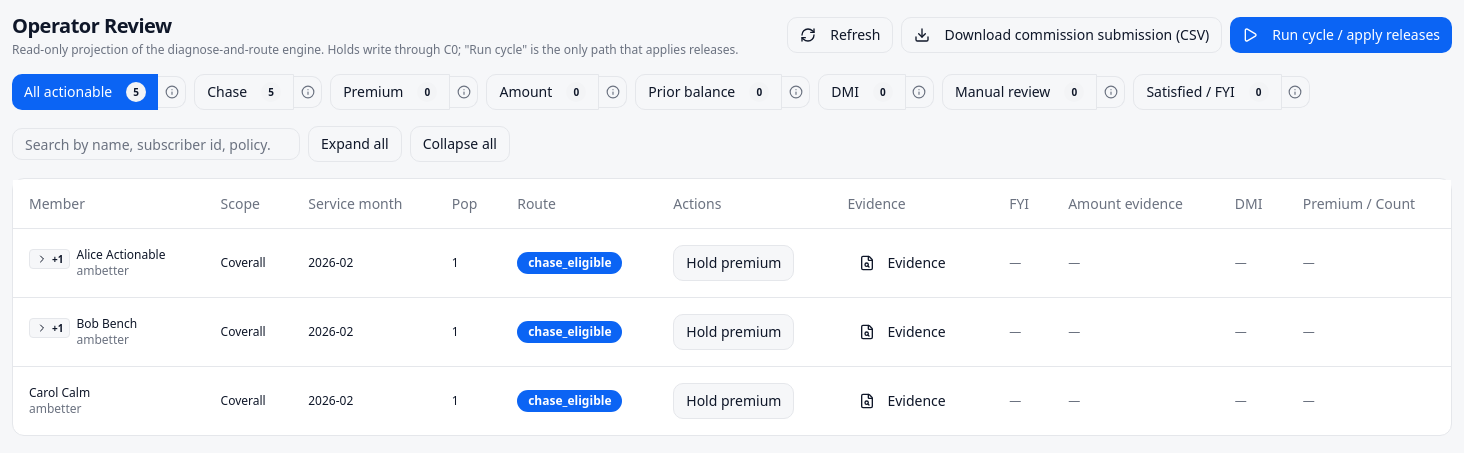
Test: OperatorReviewPage — C2c slice 1 member search + grouping › search by name narrows rows + auto-expands matching groups; clearing restores manual expand state and writes nothing
The image size is (1464, 453).
Check: the number of rows with test id "op-row" is 3, box [13,228,1451,297]; [13,297,1451,366]; [13,366,1451,434]
In the field with test id "member-search": (156,144) [12,128,300,160], type "alice"
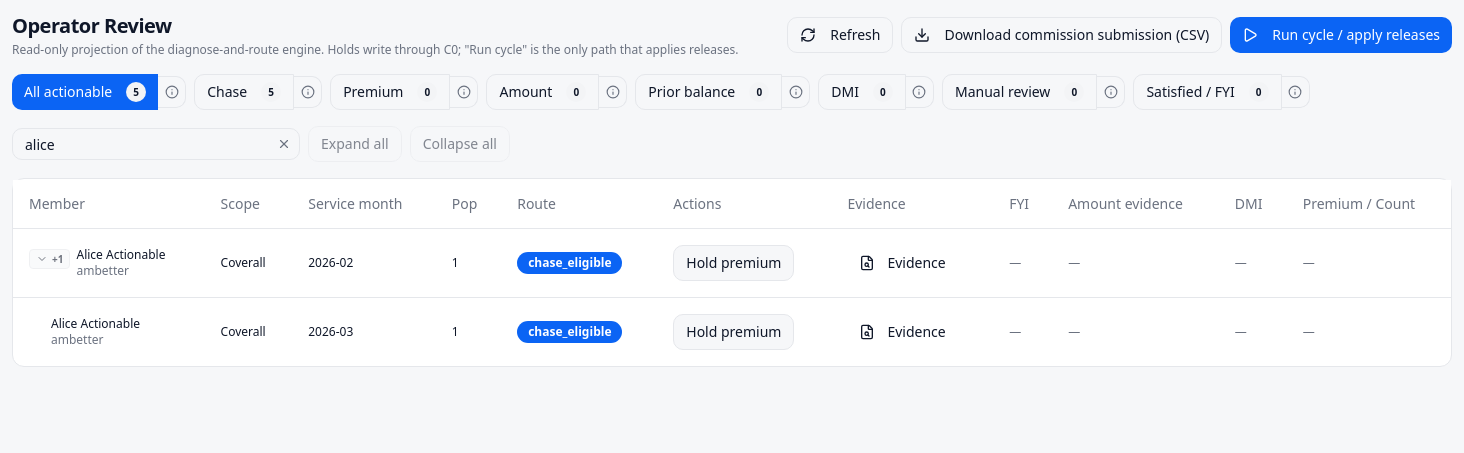
# Manual expand state was NOT mutated by typing: clearing returns to collapsed.
Click the button with test id "member-search-clear": (284,144) [274,134,294,154]
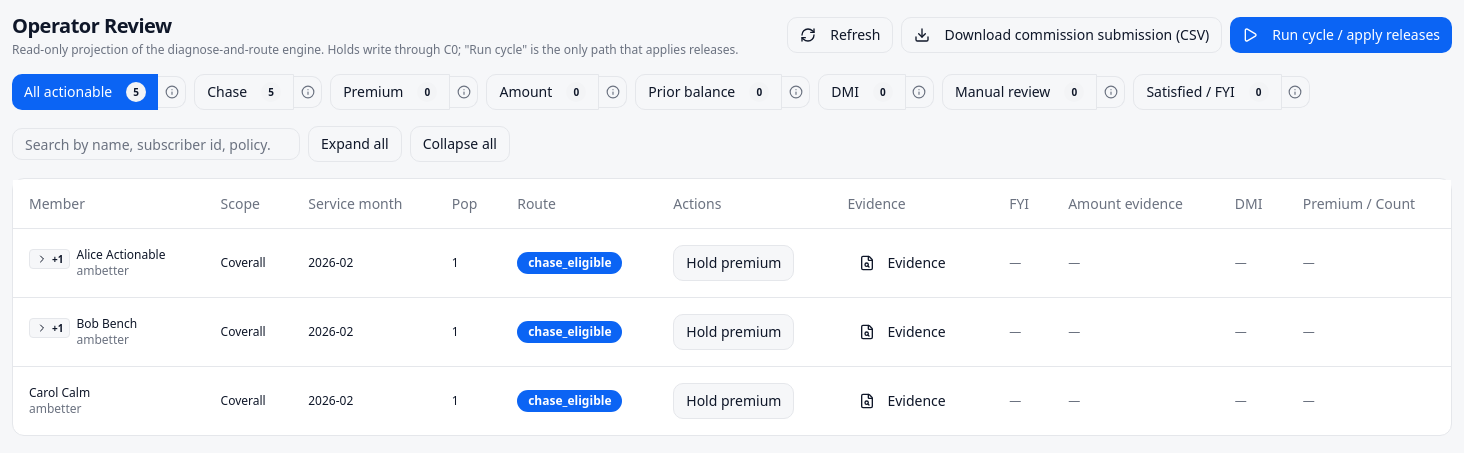
Check: the number of rows with test id "op-row" is 3, box [13,228,1451,297]; [13,297,1451,366]; [13,366,1451,434]
